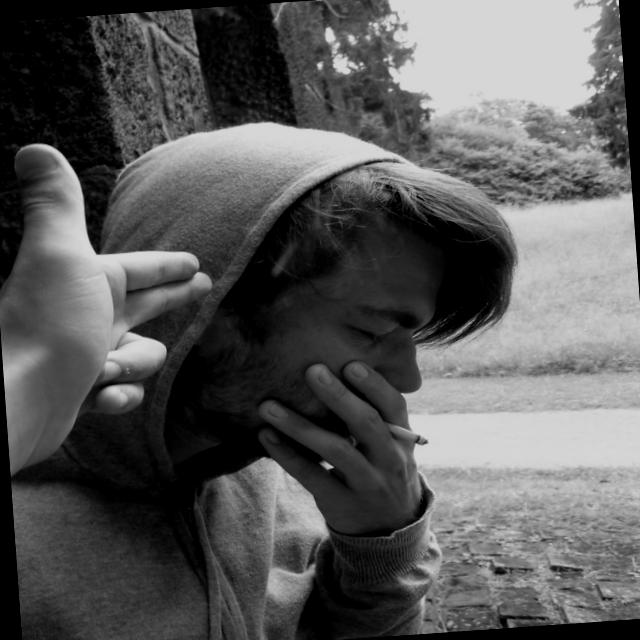cigarette: (383, 417, 439, 458)
